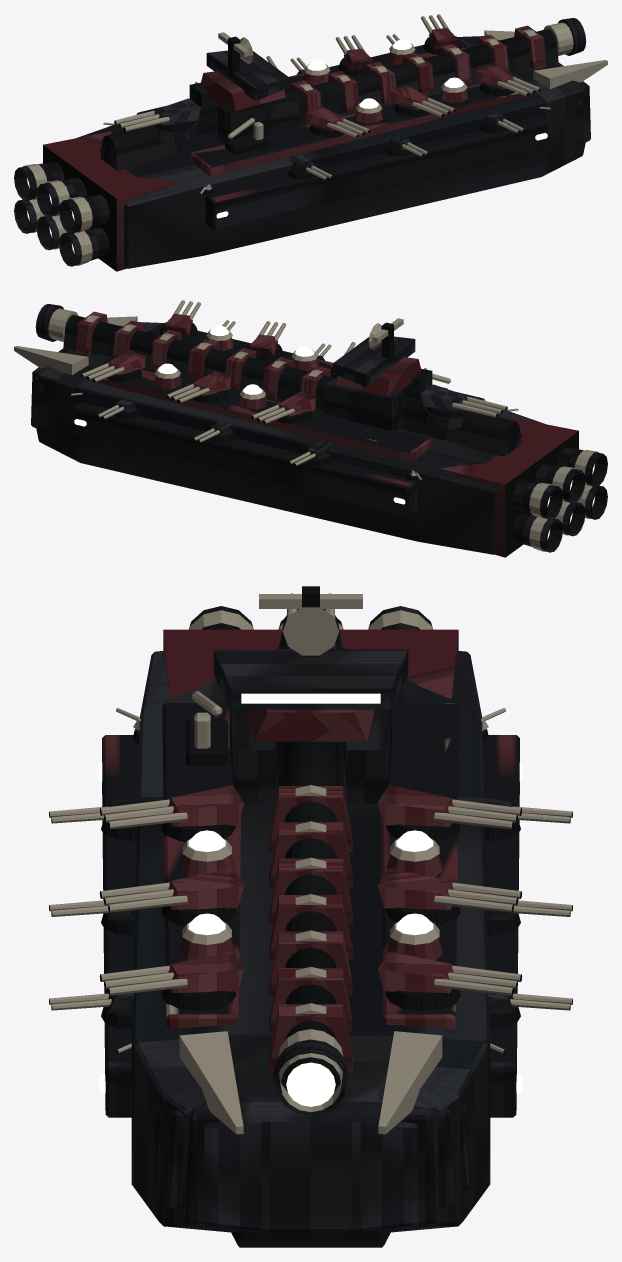
Rendered from battleship.glb.
3 views of the same model, one above another, from view 1: azimuth 30°, elevation 25°; view 2: azimuth 150°, elevation 25°; view 3: azimuth 270°, elevation 25° (orthographic). The views are drawn at different scales.
Visible parts, largest first — view 1: hull_body, weapon_mounts, engine_block, sensor_tower, shield_domes; view 2: hull_body, weapon_mounts, engine_block, sensor_tower, shield_domes; view 3: hull_body, weapon_mounts, sensor_tower, engine_block, shield_domes.
Boxes of the visible parts, x1,y1,x2,y2 form: hull_body: (76,30,607,268); weapon_mounts: (100,14,586,195); engine_block: (14,131,181,271); sensor_tower: (189,32,298,142); shield_domes: (303,39,468,123); hull_body: (14,316,545,554); weapon_mounts: (35,300,521,481); engine_block: (440,417,607,557); sensor_tower: (323,318,432,431); shield_domes: (153,325,318,409); hull_body: (98,651,523,1247); weapon_mounts: (49,593,572,1116); sensor_tower: (213,586,408,803); engine_block: (163,606,458,699); shield_domes: (178,830,443,960).
Size of the model in its own units: 60 by 18.3 by 25.02.
1 material, 1 textured.
